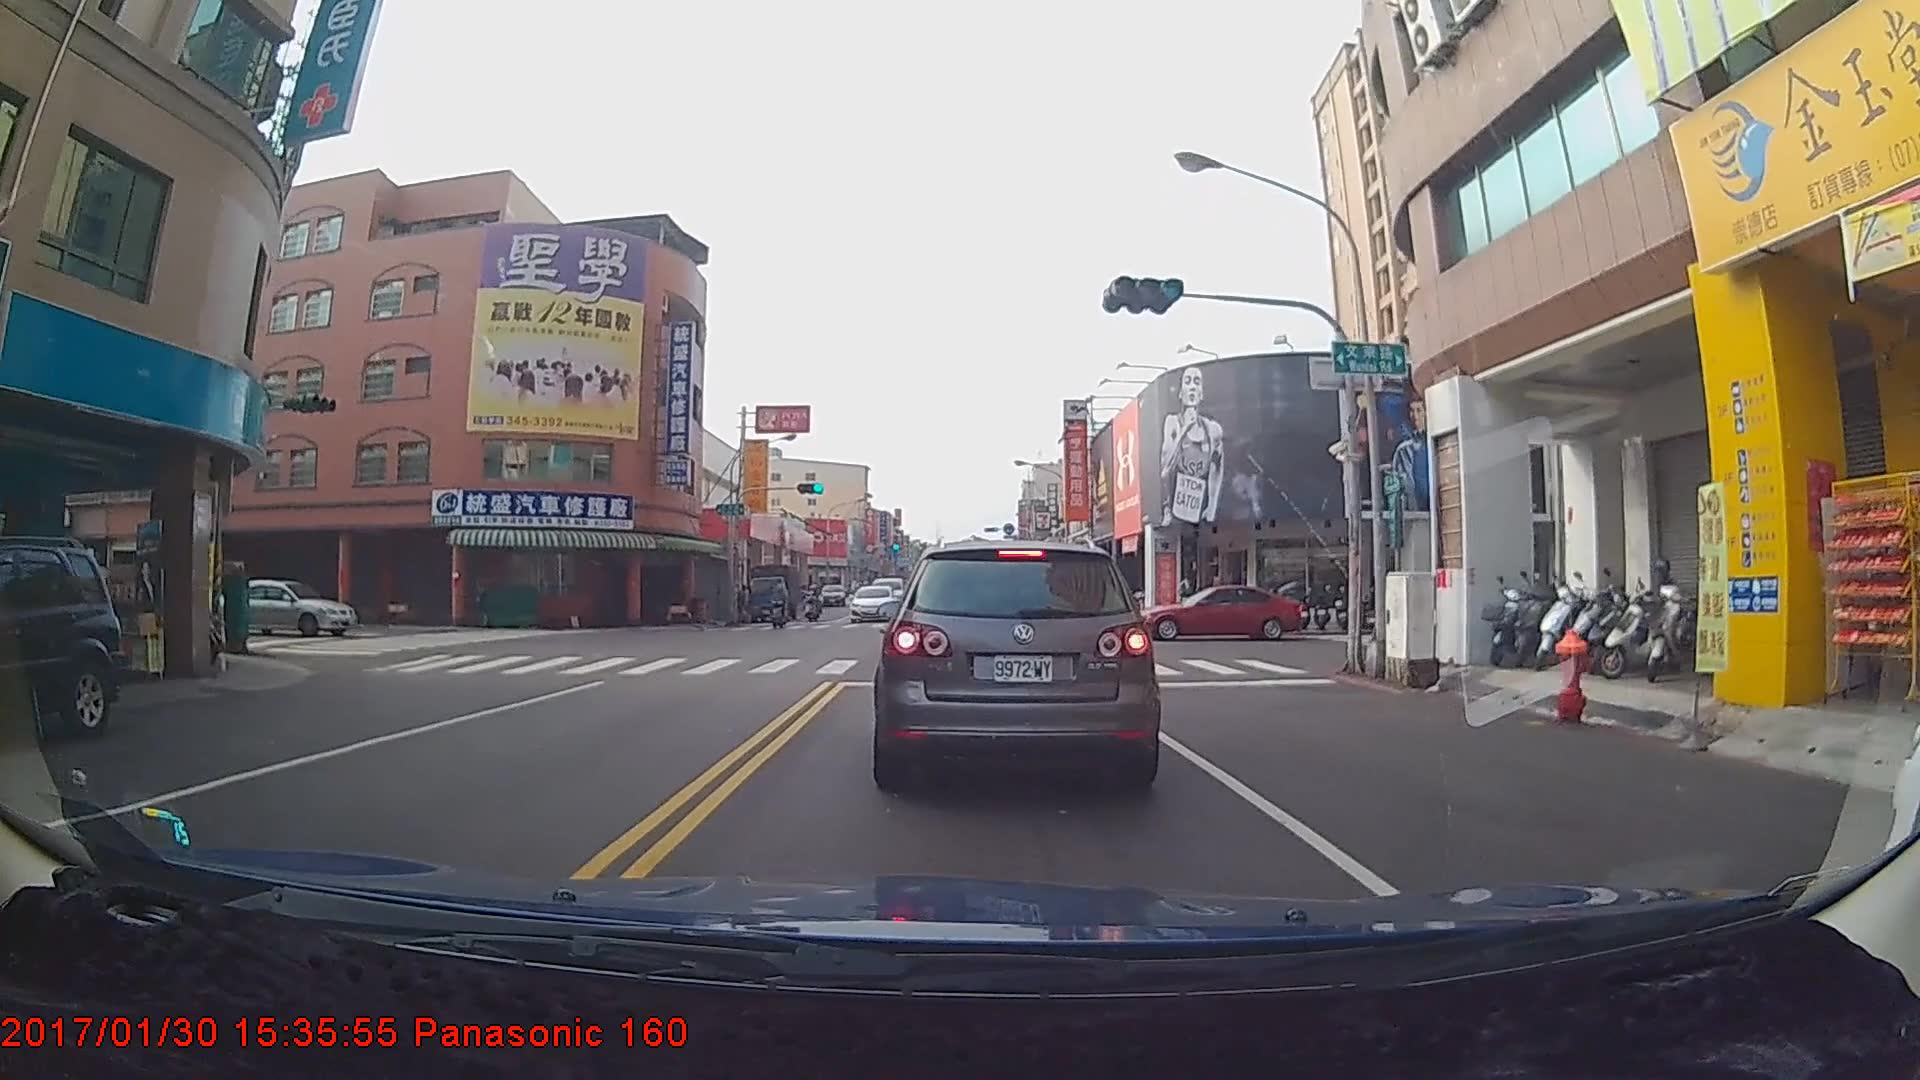rider: (762, 586, 796, 634), (802, 586, 828, 628)
vehicle: (878, 533, 1157, 788), (0, 541, 122, 746), (1137, 584, 1308, 641), (205, 572, 356, 632), (745, 561, 799, 619), (848, 583, 897, 622)
